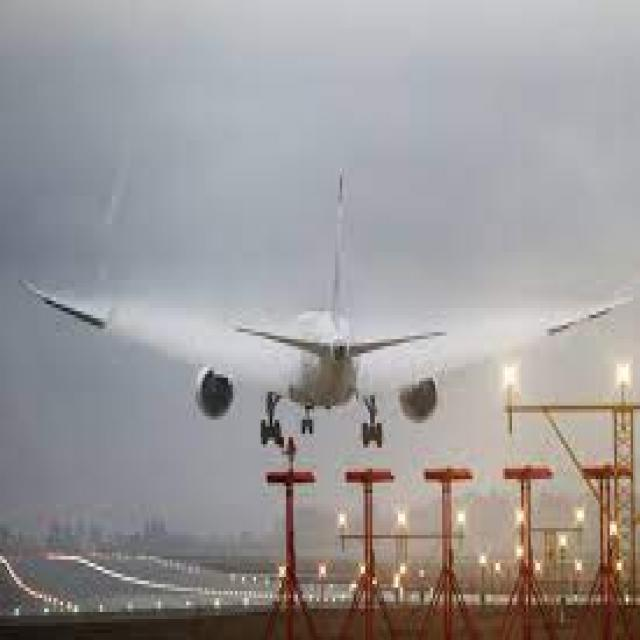plane: (17, 168, 632, 461)
